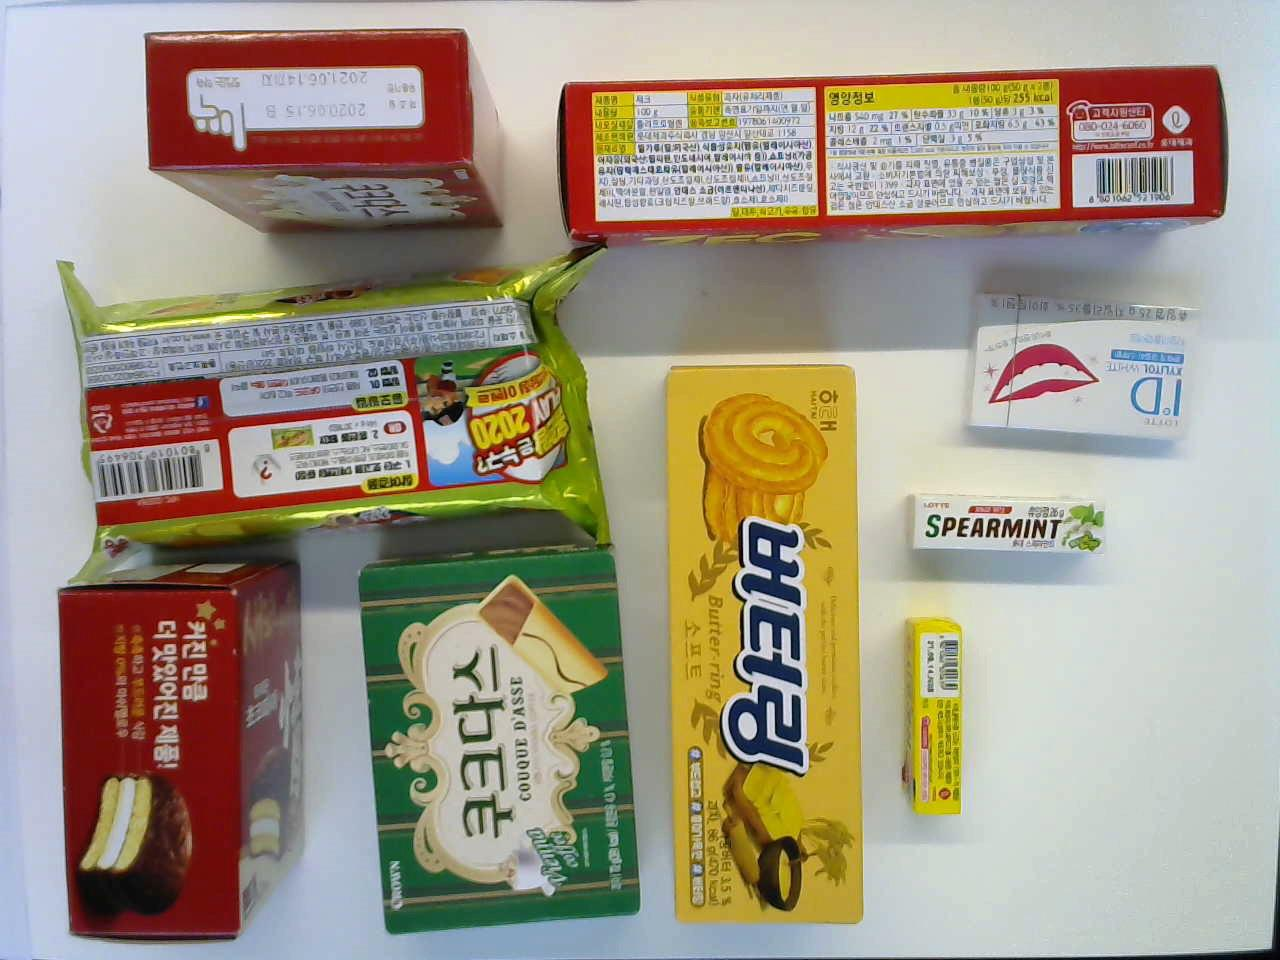ID_gum: (971, 282, 1202, 449)
buttering: (668, 359, 866, 936)
chocopie: (61, 574, 302, 937)
couque_coffee: (359, 553, 642, 932), (971, 282, 1202, 449)
couque_white: (144, 33, 505, 236)
homerunball: (89, 258, 581, 538)
juicyfresh: (896, 616, 966, 808)
spearmint: (898, 487, 1109, 562)
zec: (548, 65, 1233, 244)
